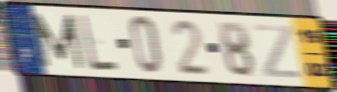0: (129, 14, 167, 77)
2: (169, 18, 211, 77)
8: (218, 19, 256, 79)
L: (78, 13, 120, 72)
M: (30, 11, 86, 71)
Z: (253, 22, 302, 81)
